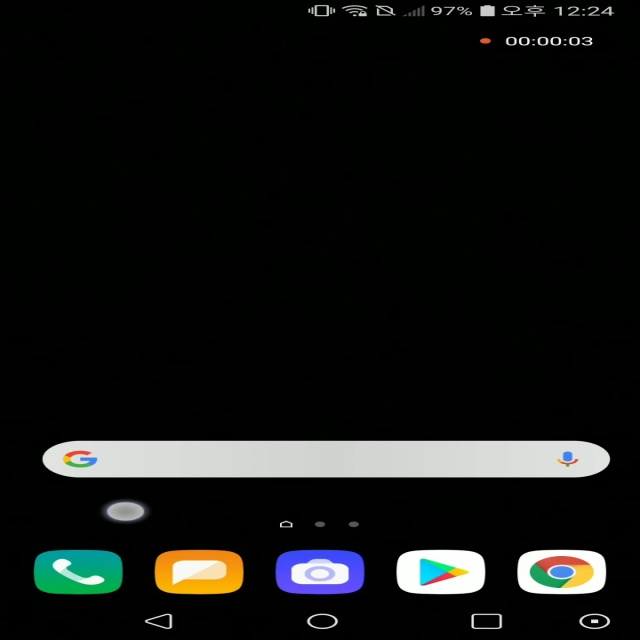Cursor: (104, 501, 149, 523)
